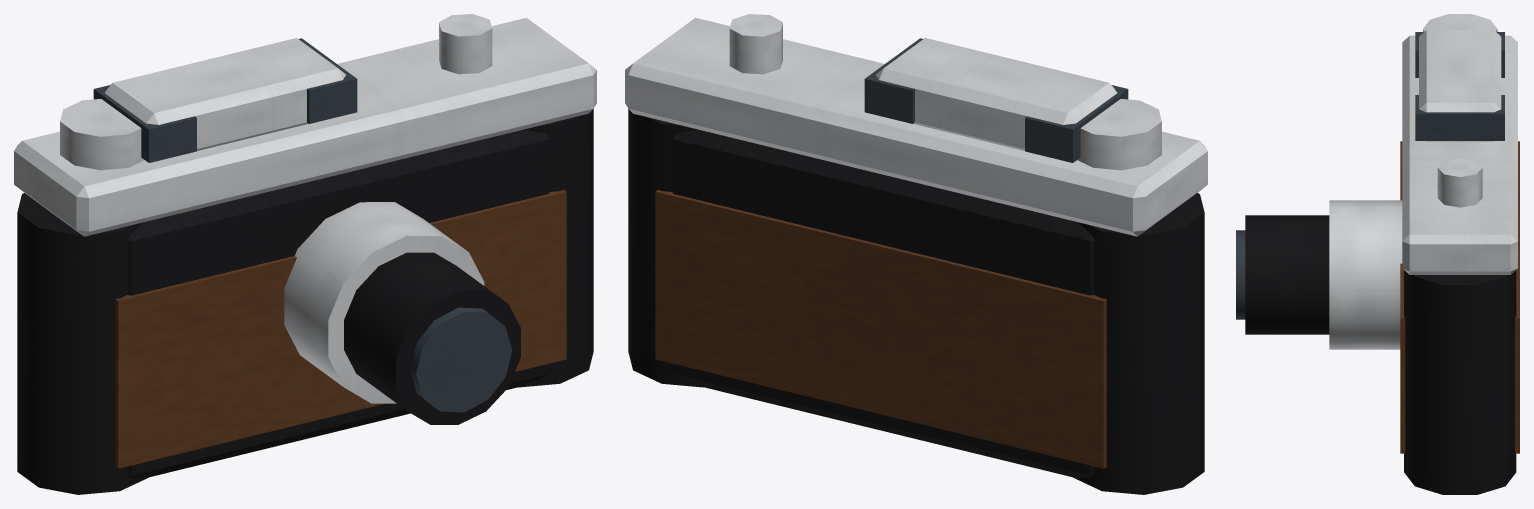
Rendered from OB_Aparat.fbx.
3 views of the same model, side by side, from view 1: azimuth 30°, elevation 25°; view 2: azimuth 150°, elevation 25°; view 3: azimuth 270°, elevation 25° (orthographic). The views are drawn at different scales.
Parts seen in each view (by area): view 1: Aparat; view 2: Aparat; view 3: Aparat.
Part boxes in pixels (x1,y1,x2,y2): Aparat: (14, 14, 596, 494); Aparat: (625, 14, 1207, 494); Aparat: (1236, 14, 1519, 494).
Size of the model in its own units: 0.1385 by 0.085 by 0.076.
